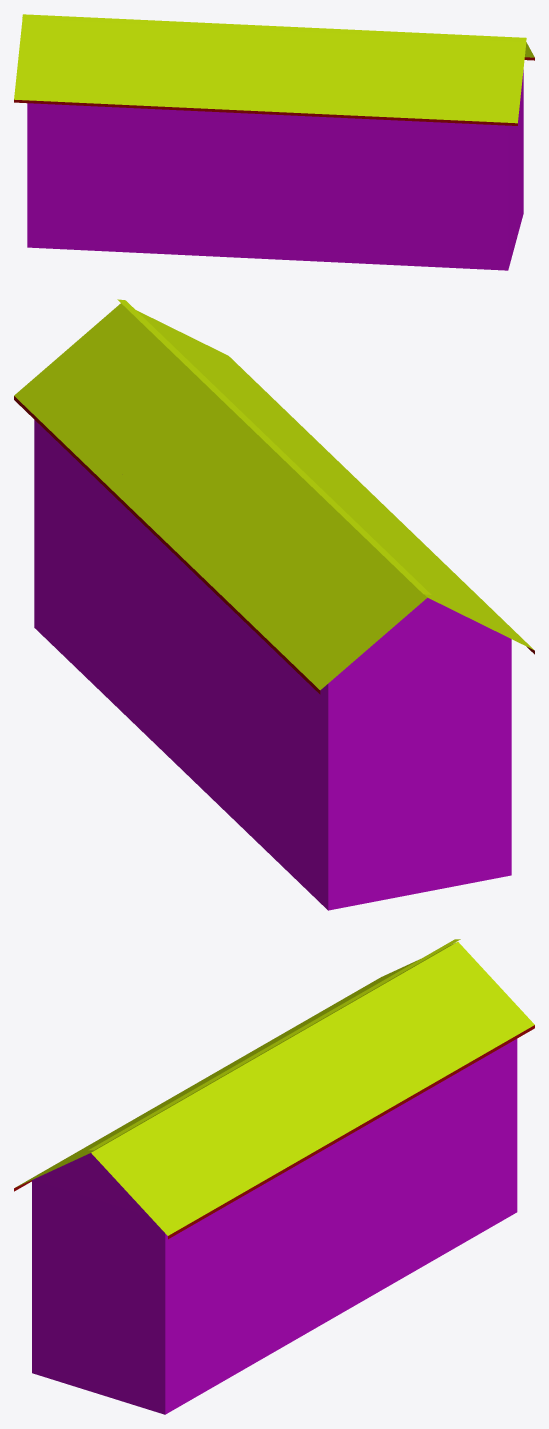
File: bgj_158.glb
3 renders of one model, top to bottom at view 1: azimuth 30°, elevation 25°; view 2: azimuth 150°, elevation 25°; view 3: azimuth 270°, elevation 25°, orthographic. The views are drawn at different scales.
Parts seen in each view (by area): view 1: bgj_158; view 2: bgj_158; view 3: bgj_158.
Part boxes in pixels (x1,y1,x2,y2): bgj_158: (14, 14, 534, 270); bgj_158: (14, 299, 534, 910); bgj_158: (14, 939, 534, 1414).
Size of the model in its own units: 19.4 by 8.7 by 16.49.
